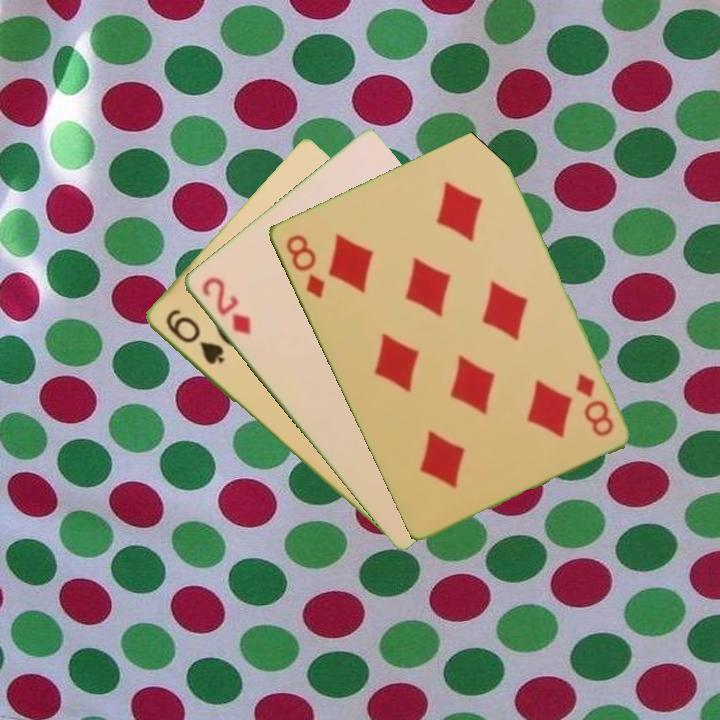2d: (197, 273, 254, 338)
6s: (161, 305, 227, 368)
8d: (282, 230, 328, 301), (571, 369, 616, 440)
